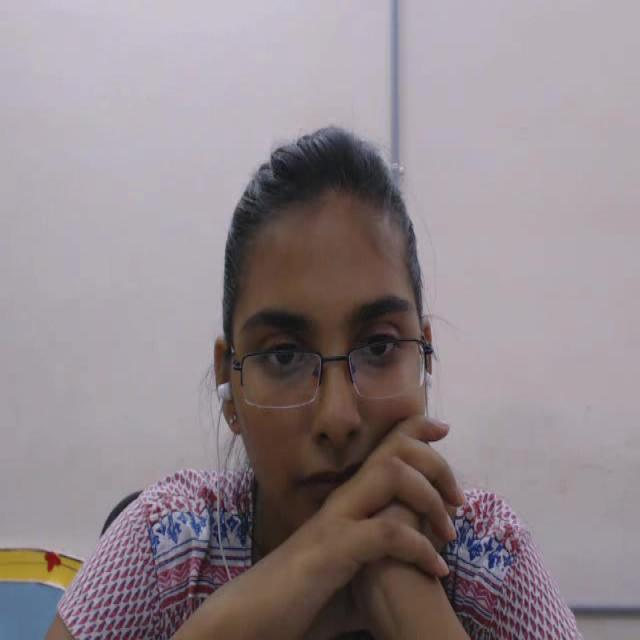Bored: (184, 97, 447, 576)
